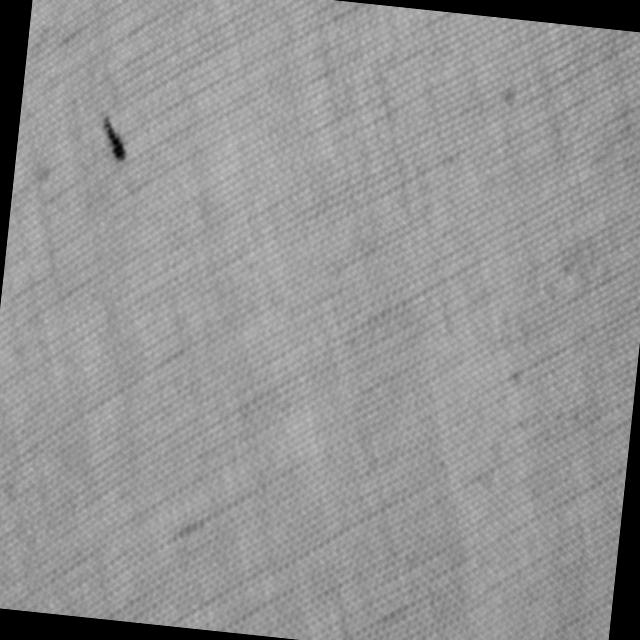oil spot: (94, 110, 130, 164)
